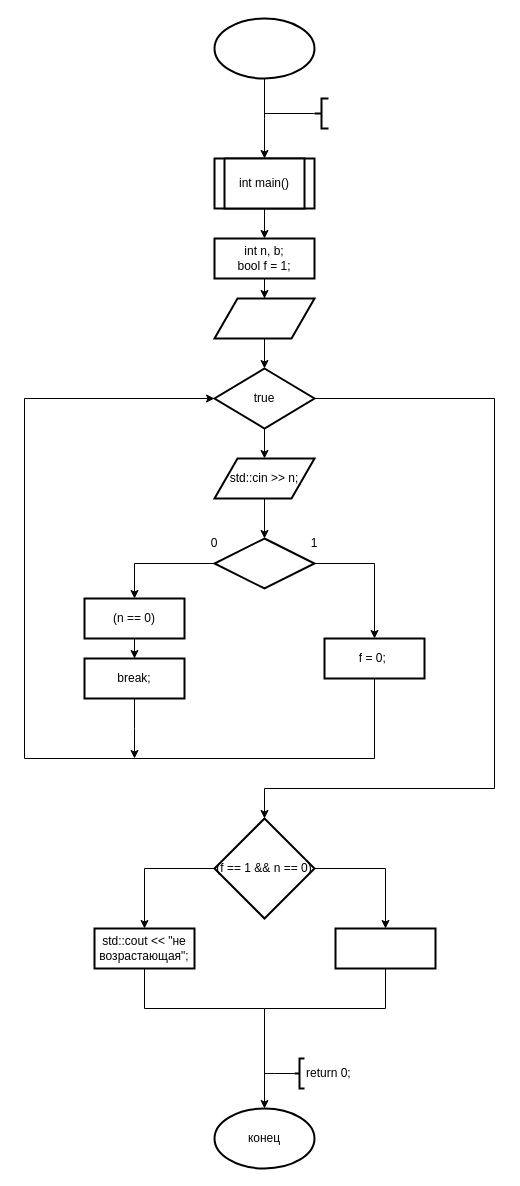
Image size: 520x1186. Some labels were removed from this diagram. The box of each missing label's shape, as (x1, y1, x2, y2) in pixels:
#include <iostream>: (313, 97, 329, 129)
(b > n): (213, 537, 315, 589)
std::cin >> b;: (213, 297, 315, 339)
std::cout << "возрастающая";: (334, 927, 436, 969)
начало: (213, 17, 315, 79)
